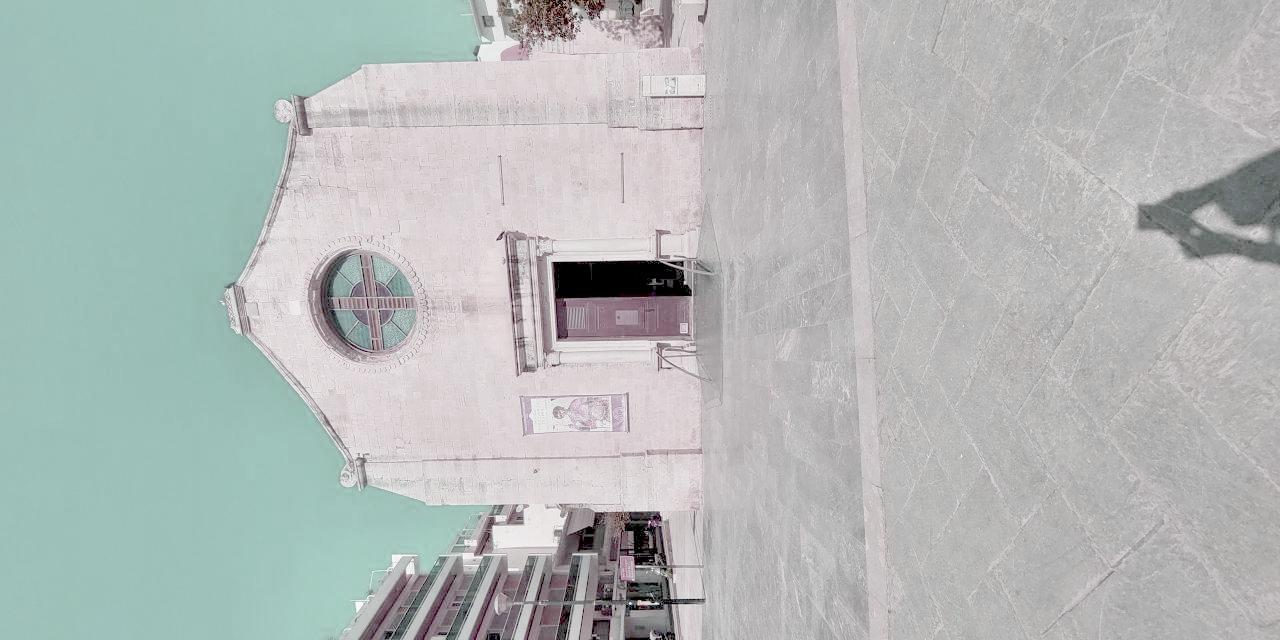Agia Aikaterini: (111, 237, 533, 640)
